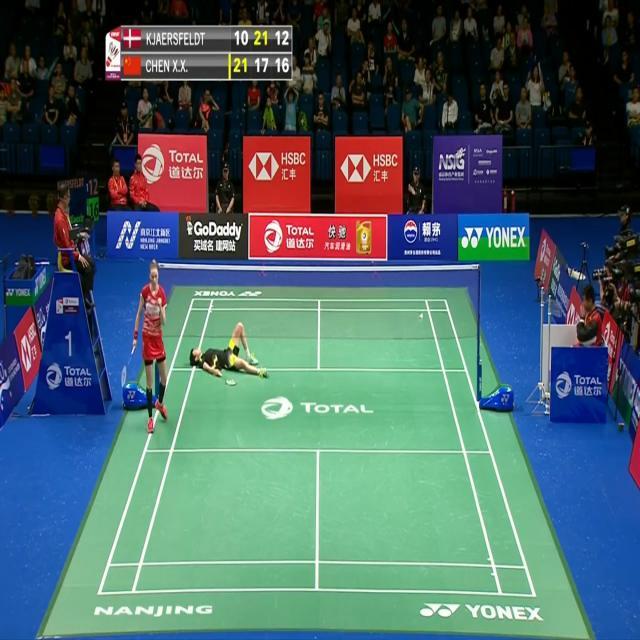Player1: (117, 256, 173, 437)
Player2: (186, 318, 272, 390)
